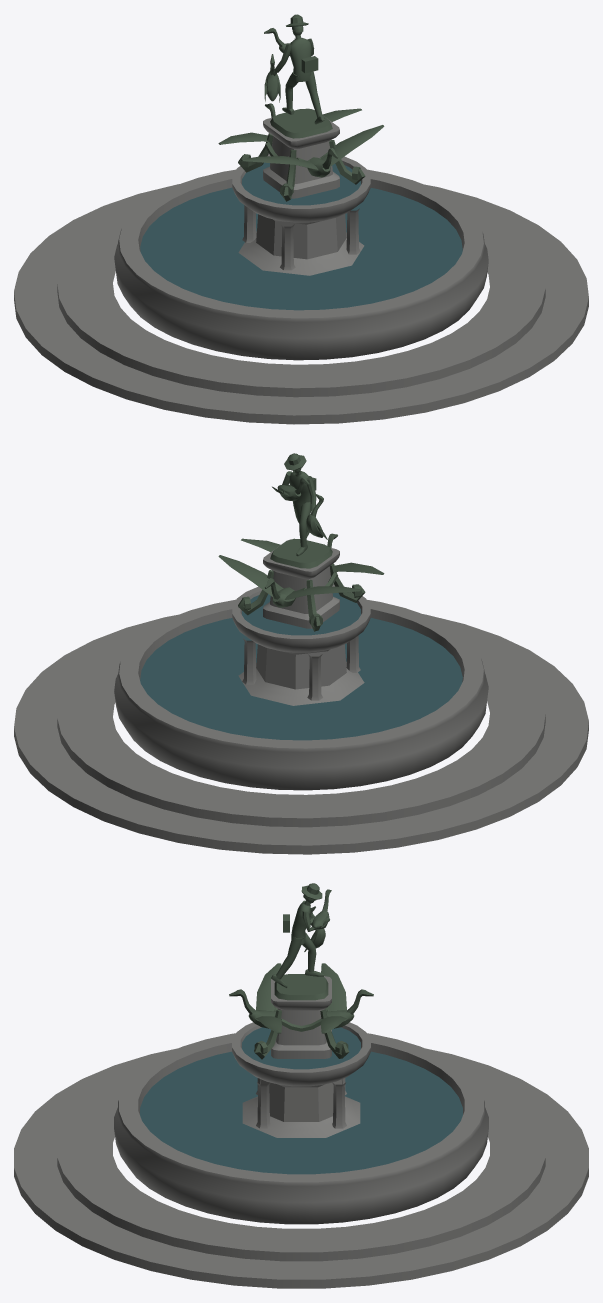
Rendered from mon_gaensediebbrunnen.glb.
3 renders of one model, top to bottom at view 1: azimuth 30°, elevation 25°; view 2: azimuth 150°, elevation 25°; view 3: azimuth 270°, elevation 25°, orthographic.
Parts seen in each view (by area): view 1: mon_gaensediebbrunnen; view 2: mon_gaensediebbrunnen; view 3: mon_gaensediebbrunnen.
Part boxes in pixels (x1,y1,x2,y2): mon_gaensediebbrunnen: [14, 14, 588, 424]; mon_gaensediebbrunnen: [14, 453, 588, 854]; mon_gaensediebbrunnen: [14, 883, 588, 1288].
Bounding box in the file's own units: 9.27 × 5.05 × 9.27.
